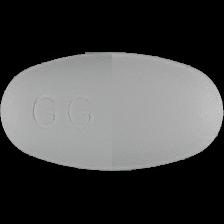49999-904: (0, 0, 224, 224)
